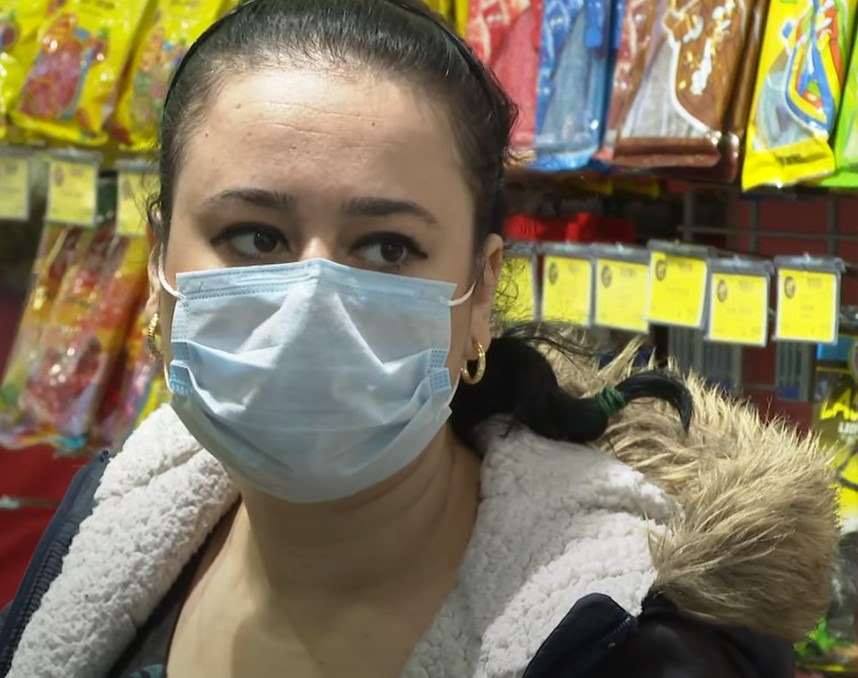face_with_mask: (144, 9, 512, 510)
